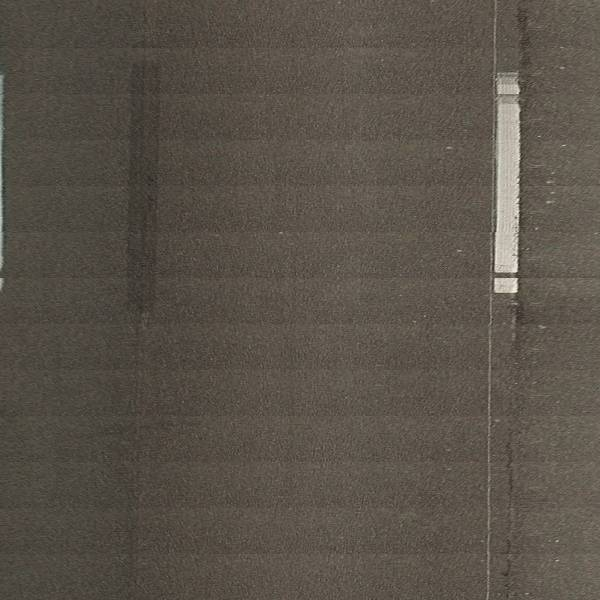road_damage: (502, 430, 517, 600)
